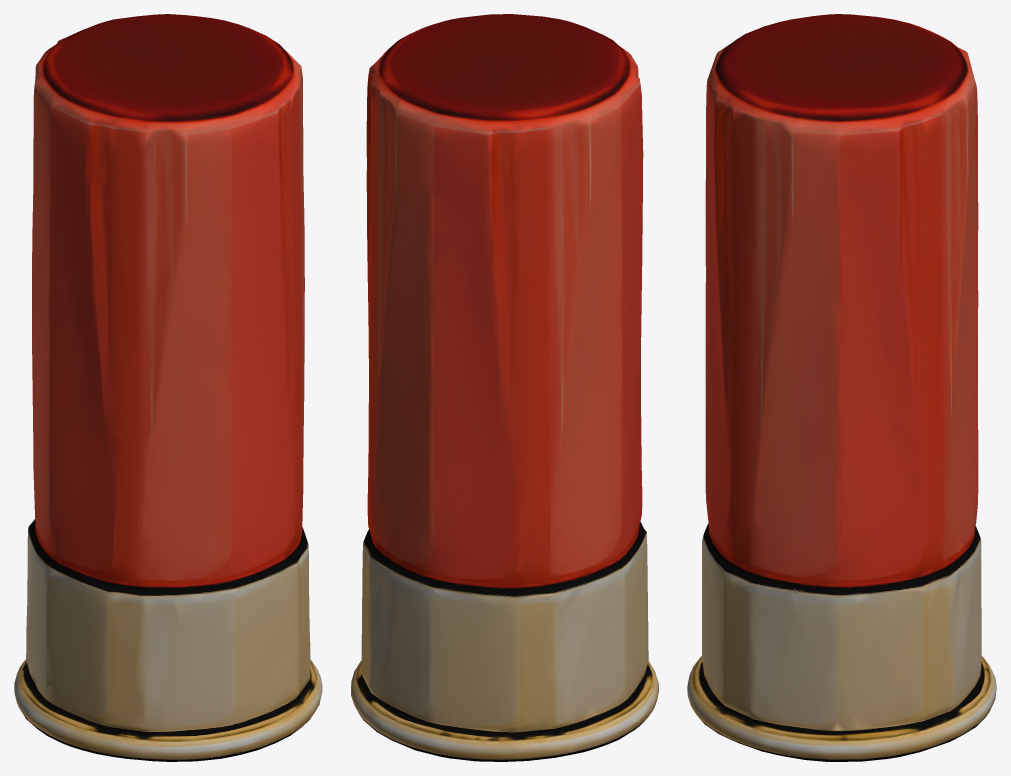
Rendered from BalaEscopeta.fbx.
3 views of the same model, side by side, from view 1: azimuth 30°, elevation 25°; view 2: azimuth 150°, elevation 25°; view 3: azimuth 270°, elevation 25° (orthographic).
Visible parts, largest first — view 1: tripo_node_8b46cdd8; view 2: tripo_node_8b46cdd8; view 3: tripo_node_8b46cdd8.
Part boxes in pixels (<box>): tripo_node_8b46cdd8: <box>14,14,322,761</box>; tripo_node_8b46cdd8: <box>351,14,658,761</box>; tripo_node_8b46cdd8: <box>687,14,996,761</box>.
Size of the model in its own units: 43.68 by 43.62 by 100.
1 material, 1 textured.
